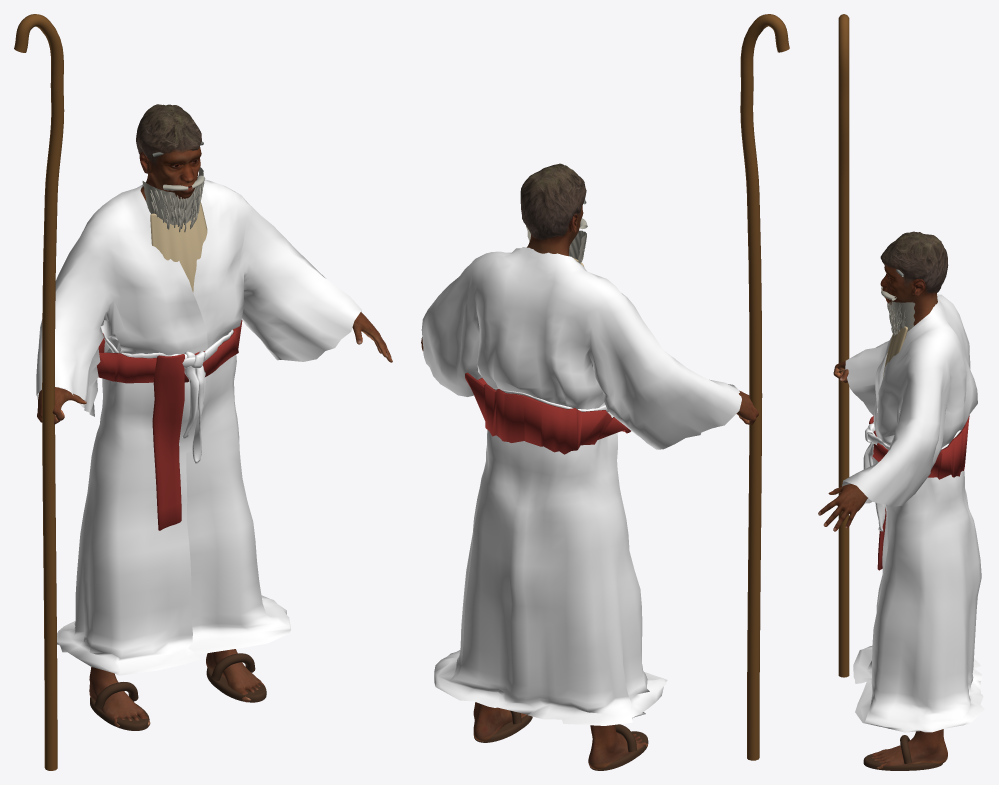
File: noah-review.glb
The picture shows the model from 3 angles, left to right: view 1: azimuth 30°, elevation 25°; view 2: azimuth 150°, elevation 25°; view 3: azimuth 270°, elevation 25°; orthographic projection. The views are drawn at different scales.
Parts seen in each view (by area): view 1: Moses continuous woven robe, Noah_Wooden_Staff, Moses anatomical body, Falling sash cloth, Moses anatomical body.short02, Woven red waist sash, Continuous cream tunic inset, Contoured full elder beard, Leather sandal sole l; view 2: Moses continuous woven robe, Noah_Wooden_Staff, Woven red waist sash, Moses anatomical body, Moses anatomical body.short02; view 3: Moses continuous woven robe, Noah_Wooden_Staff, Moses anatomical body, Moses anatomical body.short02, Woven red waist sash, Leather sandal sole l, Contoured full elder beard, Continuous cream tunic inset.
Part boxes in pixels (left/top/right/bottom): Moses continuous woven robe: left=36, top=179, right=361, bottom=675; Noah_Wooden_Staff: left=14, top=14, right=64, bottom=770; Moses anatomical body: left=37, top=147, right=392, bottom=726; Falling sash cloth: left=152, top=354, right=184, bottom=530; Moses anatomical body.short02: left=136, top=104, right=201, bottom=165; Woven red waist sash: left=97, top=320, right=242, bottom=383; Continuous cream tunic inset: left=150, top=202, right=207, bottom=292; Contoured full elder beard: left=142, top=167, right=203, bottom=225; Leather sandal sole l: left=206, top=667, right=266, bottom=702; Moses continuous woven robe: left=421, top=247, right=741, bottom=725; Noah_Wooden_Staff: left=740, top=14, right=789, bottom=760; Woven red waist sash: left=465, top=372, right=630, bottom=454; Moses anatomical body: left=421, top=205, right=758, bottom=769; Moses anatomical body.short02: left=520, top=163, right=586, bottom=240; Moses continuous woven robe: left=842, top=294, right=984, bottom=732; Noah_Wooden_Staff: left=838, top=14, right=849, bottom=677; Moses anatomical body: left=818, top=264, right=947, bottom=769; Moses anatomical body.short02: left=880, top=231, right=948, bottom=293; Woven red waist sash: left=872, top=415, right=969, bottom=479; Leather sandal sole l: left=863, top=754, right=942, bottom=770; Contoured full elder beard: left=891, top=301, right=915, bottom=331; Continuous cream tunic inset: left=883, top=326, right=907, bottom=377.
Size of the model in its own units: 1.2 by 2.33 by 0.5403.
Materials: 15 (8 with a texture image).
